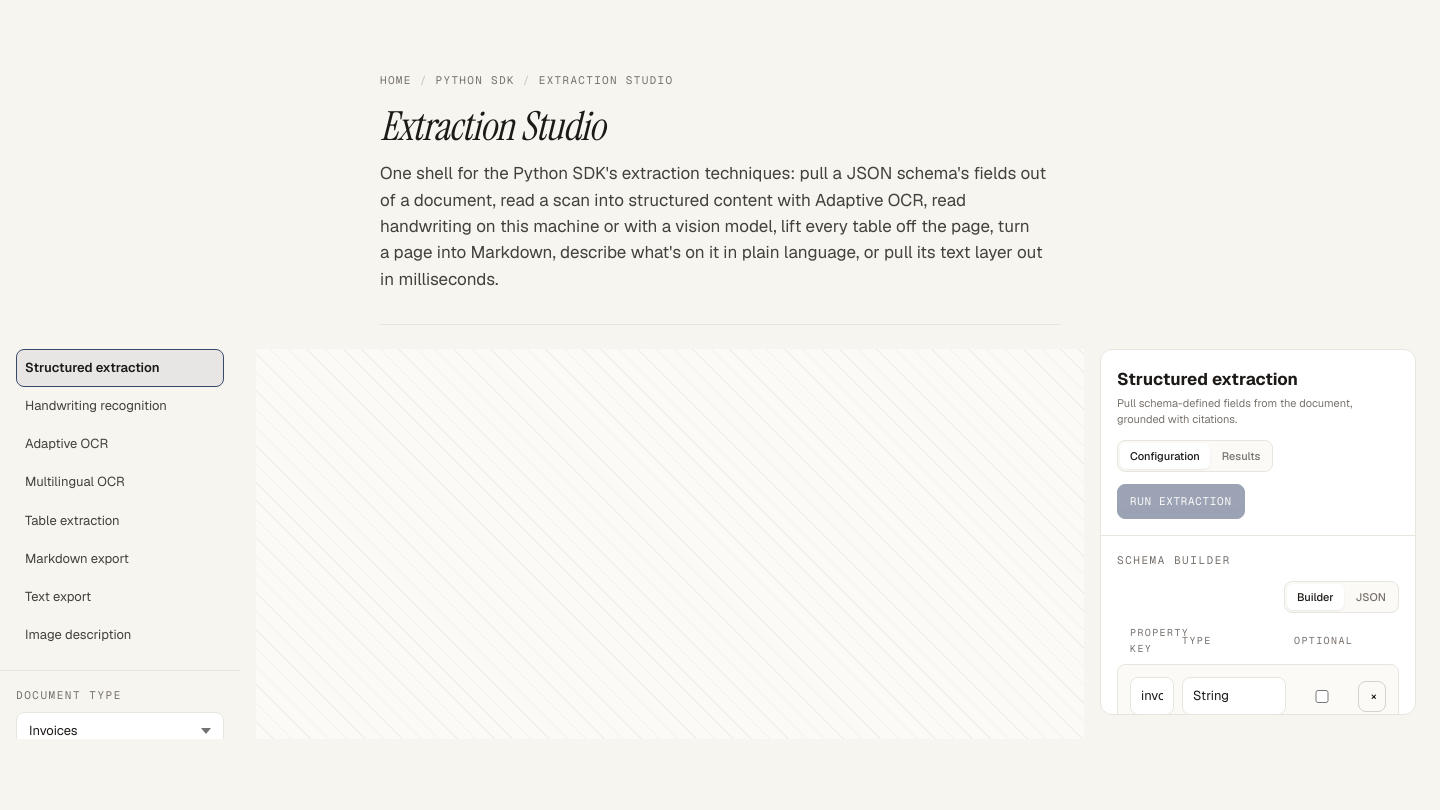
Test: Adaptive OCR is selectable and swaps in its own panel
What coordinates should you click on to do the following:
click the button "Adaptive OCR"
I would click on:
 (120, 444)
Its box is [16, 425, 224, 463].
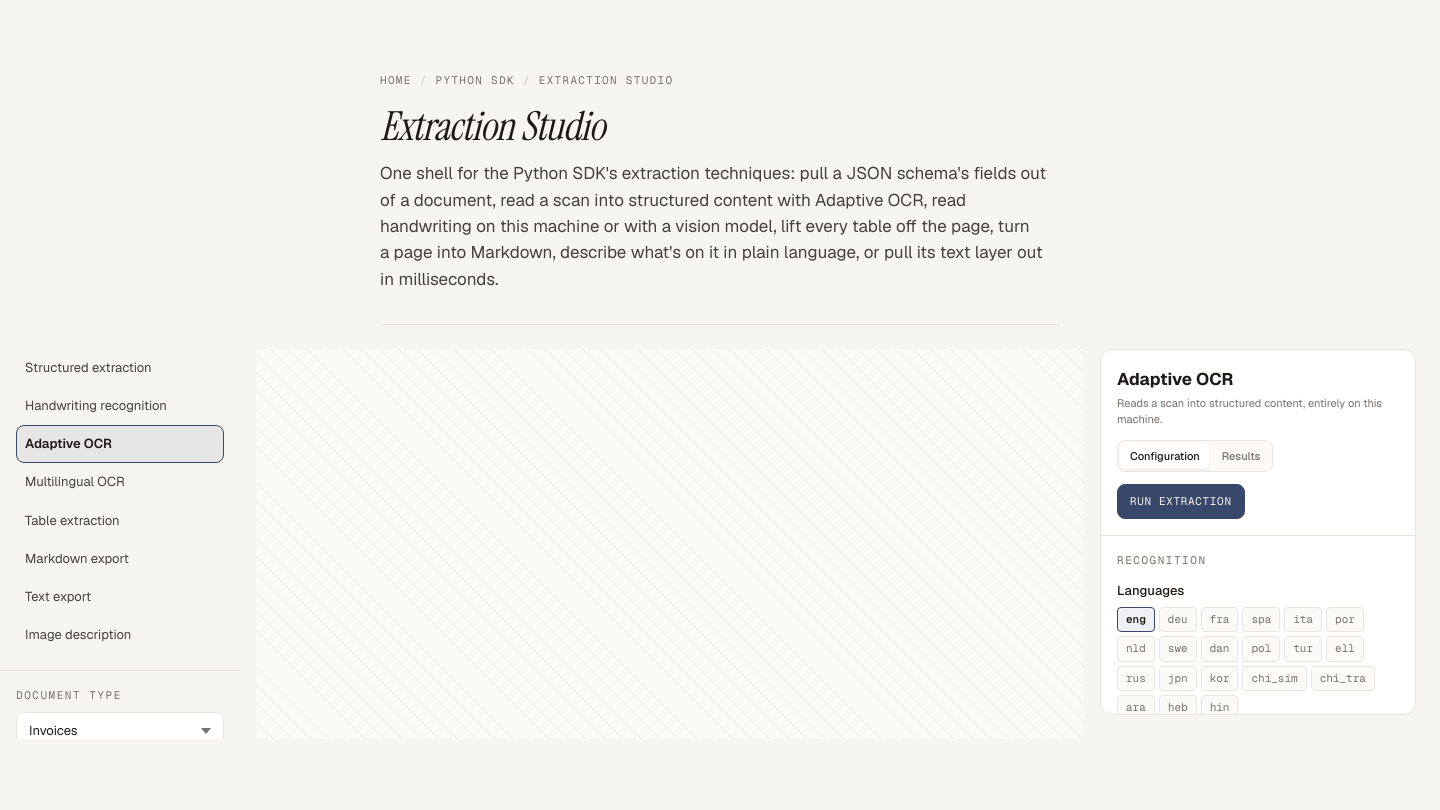
Now the text "Languages" is shown, box [1117, 582, 1184, 599]
Now the text "Schema builder" is gone
